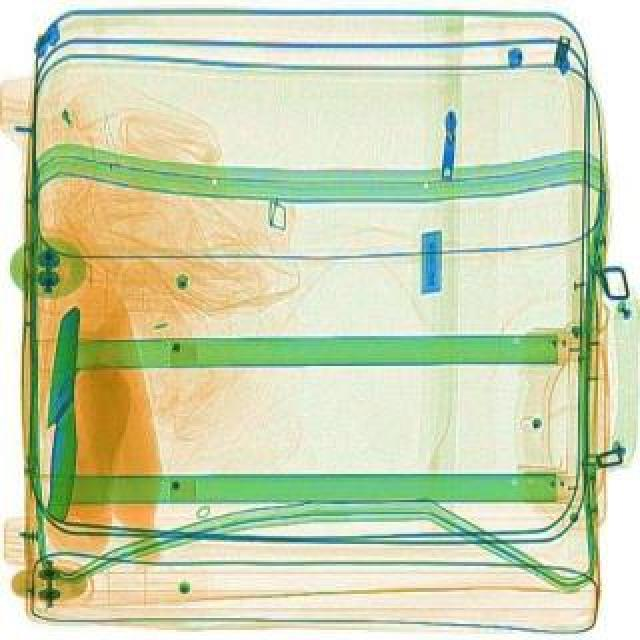knife: (40, 304, 84, 520)
